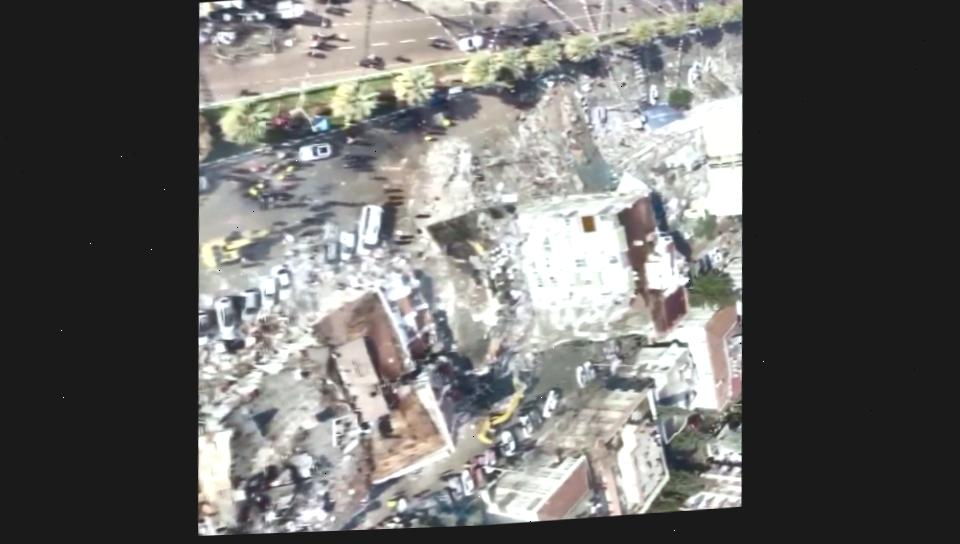kapali: (469, 49, 636, 181)
